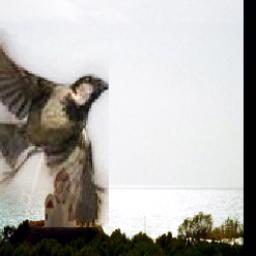Sparrow: (0, 28, 109, 227)
